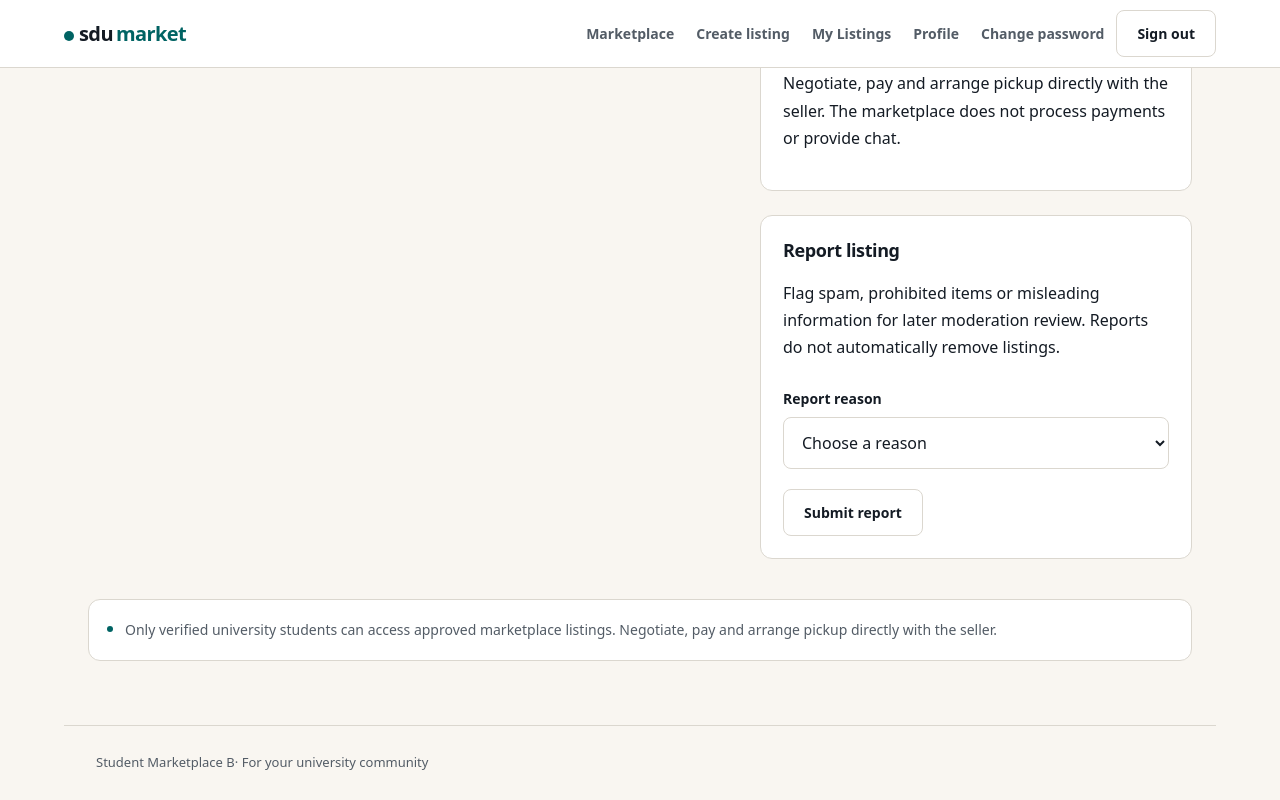
Scenario: ambiguous network failure never claims acceptance and explicit retry is safe
(page scrolled)
Expected: the form named "Report listing" is shown, top-left (783, 378), bottom-right (1169, 536)
Select "Spam" in the dropdown labelled "Report reason" at x=976, y=444, box top-left (783, 418), bottom-right (1169, 470)
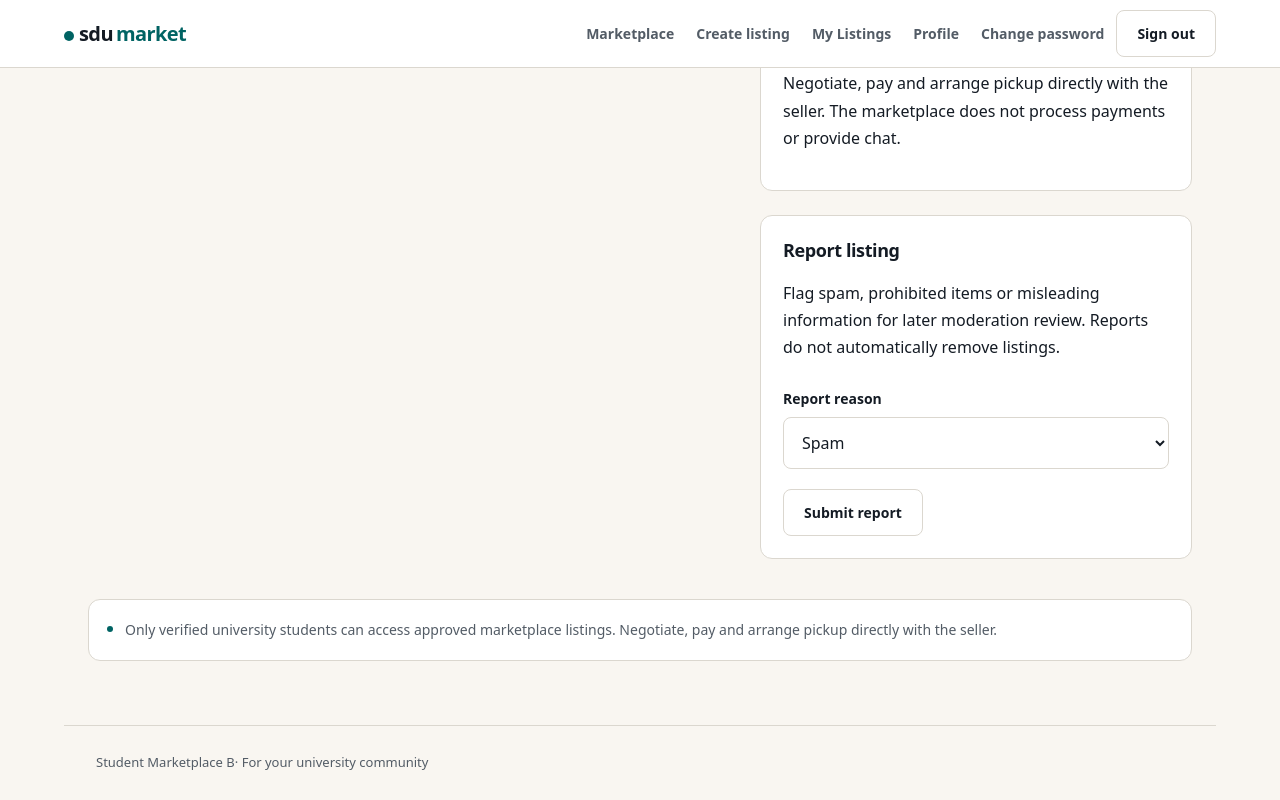
Submit the form named "Report listing", box top-left (783, 378), bottom-right (1169, 536)
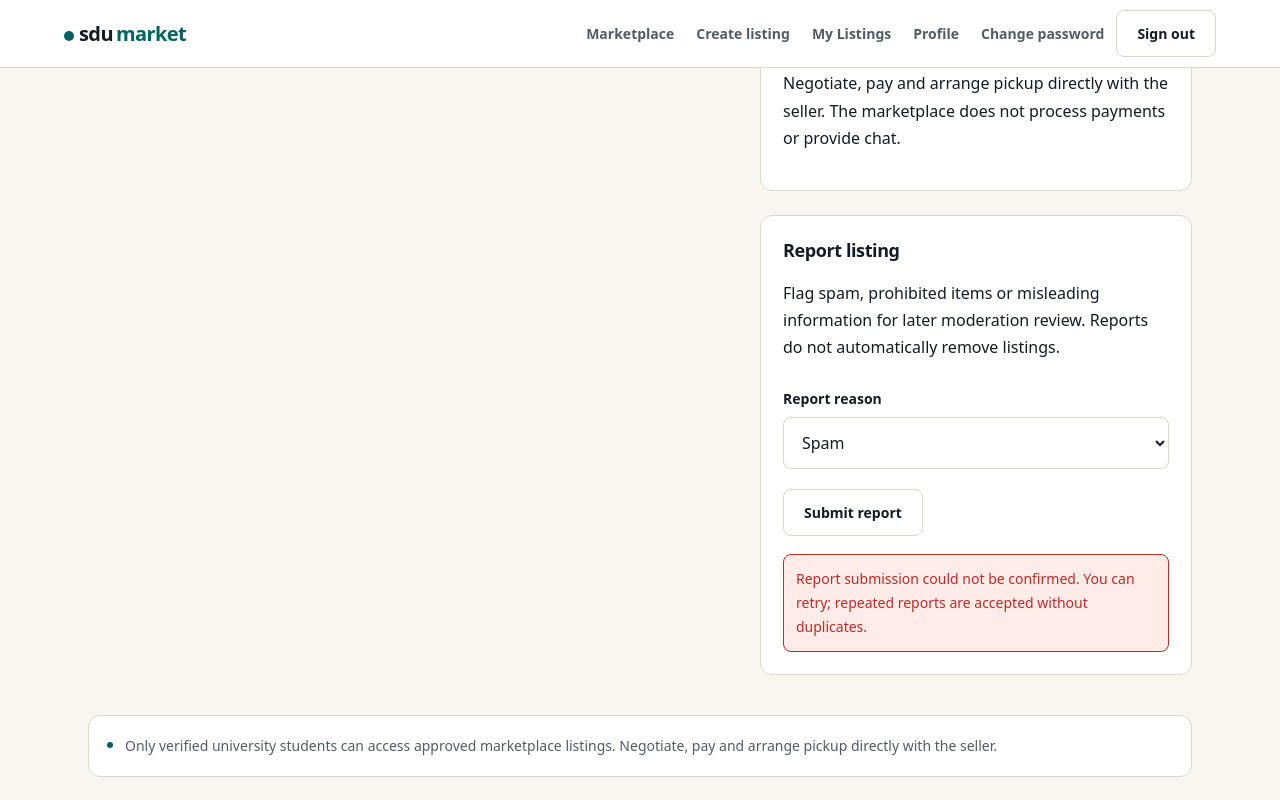
Now the message is shown, box top-left (783, 554), bottom-right (1169, 652)
Now the message shows "could not be confirmed", box top-left (796, 570), bottom-right (1134, 636)
Now the message shows "retry", box top-left (796, 570), bottom-right (1134, 636)
Submit the form named "Report listing", box top-left (783, 378), bottom-right (1169, 652)
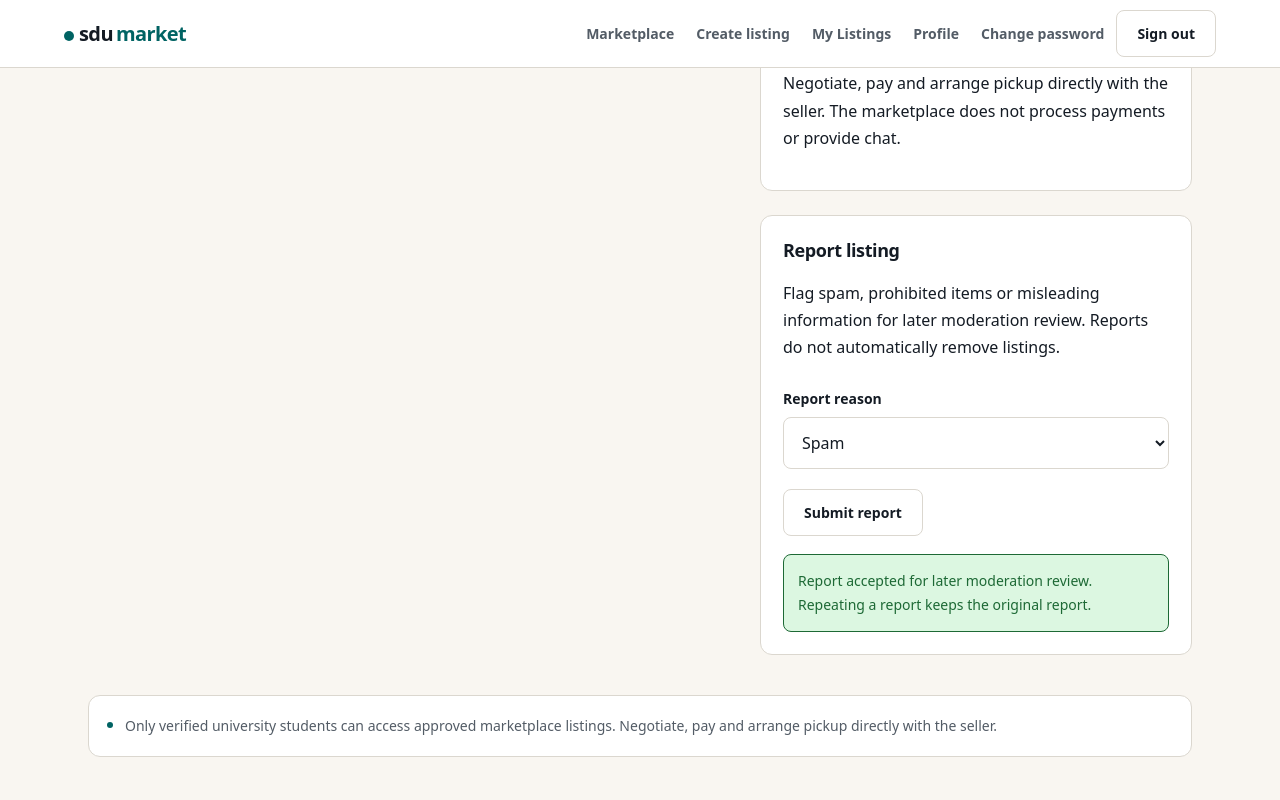
Now the text "Report accepted for later moderation review. Repeating a report keeps the original report." is shown, box top-left (798, 572), bottom-right (1092, 614)
